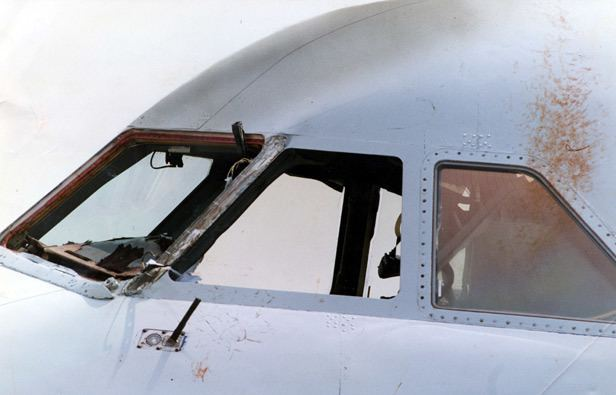hole: (531, 322, 537, 328), (421, 209, 427, 215), (585, 328, 591, 333), (428, 313, 433, 319), (419, 296, 425, 301), (420, 241, 425, 247), (422, 177, 427, 183), (422, 188, 427, 194), (611, 330, 616, 335), (606, 233, 611, 238), (505, 321, 510, 326), (453, 316, 458, 321), (519, 157, 524, 162), (434, 152, 439, 157), (420, 284, 425, 289), (420, 274, 425, 279), (422, 199, 427, 204), (597, 329, 603, 333), (456, 152, 462, 156), (482, 154, 486, 159), (571, 327, 576, 331), (440, 316, 445, 320), (480, 319, 484, 324), (421, 263, 425, 268), (506, 156, 510, 160)
